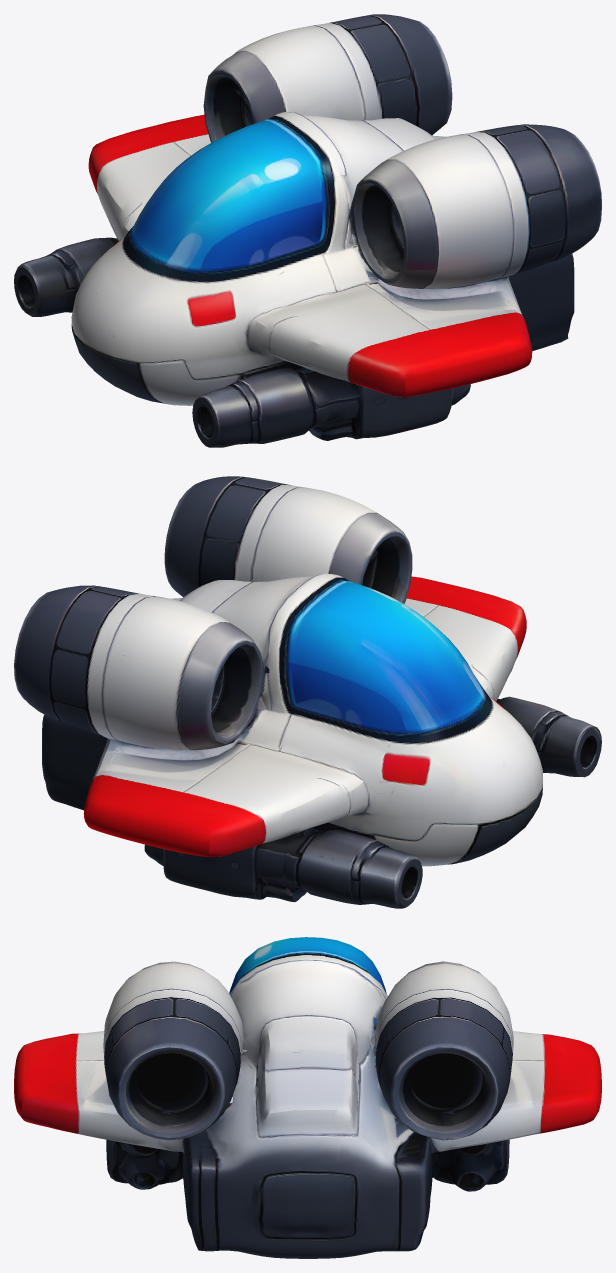
Rendered from Meshy_AI_Blue_Comet_Jet_0630111534_texture.glb.
3 renders of one model, top to bottom at view 1: azimuth 30°, elevation 25°; view 2: azimuth 150°, elevation 25°; view 3: azimuth 270°, elevation 25°, orthographic. The views are drawn at different scales.
Size of the model in its own units: 1.52 by 0.8613 by 1.91.
1 material, 1 textured.
